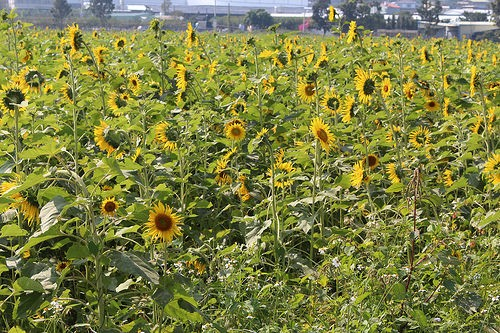flower: (142, 201, 184, 244), (308, 117, 337, 154), (225, 122, 247, 144), (99, 197, 122, 217)
